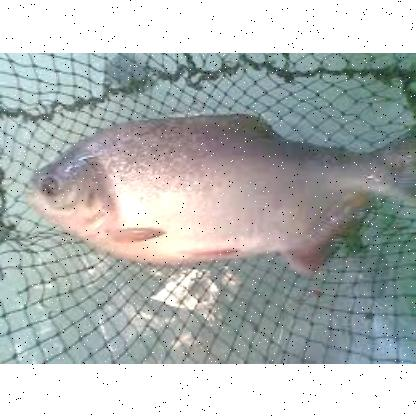ikan-pacu: (28, 112, 392, 260)
